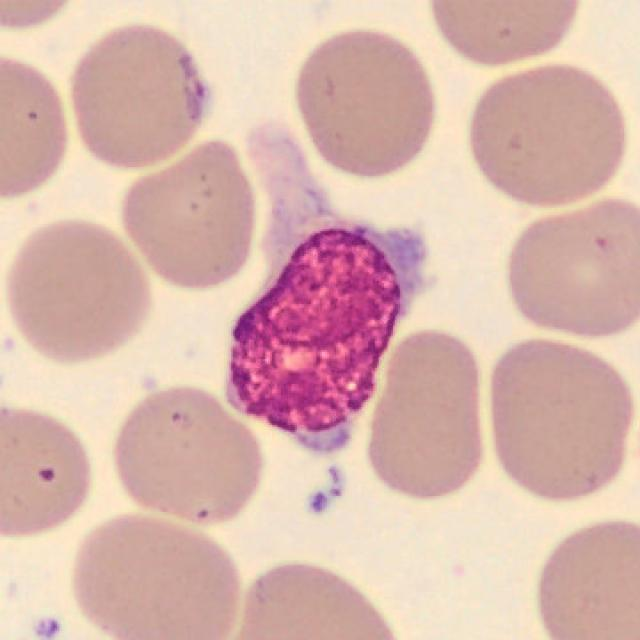Linfocito atipico: (220, 121, 427, 459)
